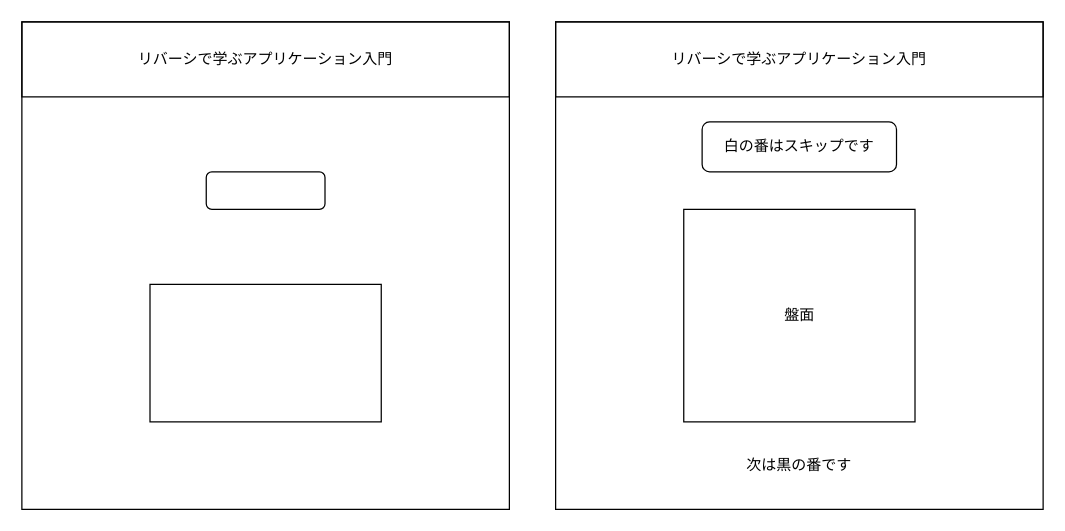
This 1065x531 diagram has some shape labels left out. The centre of each missing label's shape, as x and y in pixels:
"対戦する" belongs at (x=265, y=190).
"過去の対戦結果" belongs at (x=265, y=352).
